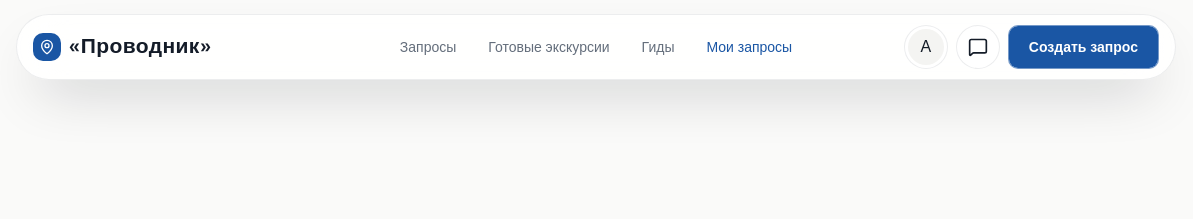
Test case: SiteHeader desktop account menu › shows first name in dropdown label when fullName is set
Press the mouse on the button named "Меню аккаунта" at (926, 47), box 904,25 -> 948,69
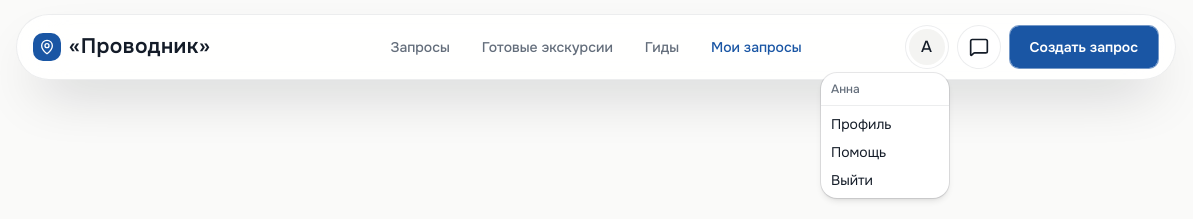
Now the text "Анна" is shown, box 831,81 -> 860,97
